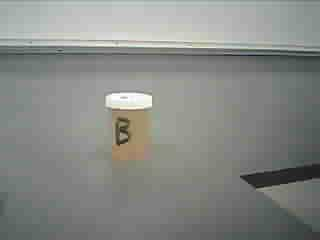Bottle B: (95, 80, 163, 170)
